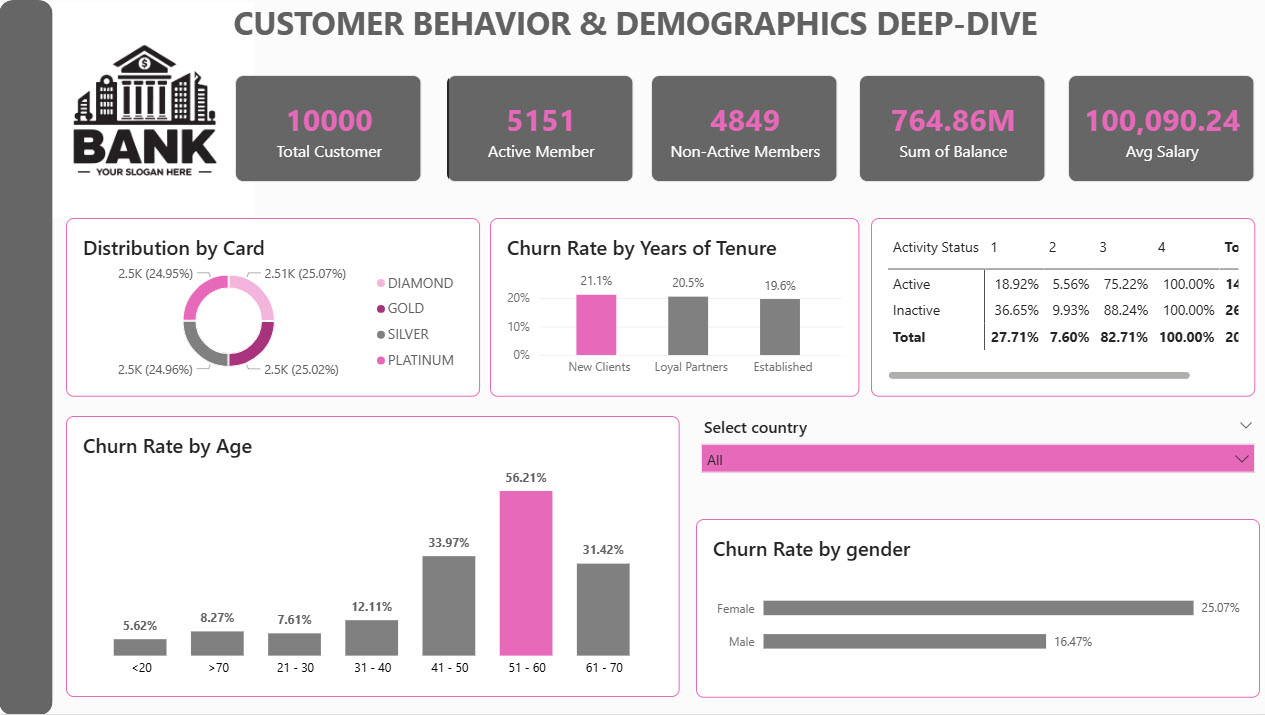

The page's visual inventory and layout, read from the dashboard file:
{"tool":"powerbi","page":{"name":" Page 2","canvas":[1280,720],"ordinal":1},"visuals":[{"type":"image","box":[23.3,2.2,247.8,217.8],"z":0},{"type":"shape","box":[0,0,54.1,720.5],"z":1000},{"type":"cardVisual","fields":{"Data":["Customer.Records.Non-Active Members"]},"box":[656.8,75.6,188,108.9],"z":2000},{"type":"cardVisual","fields":{"Data":["Sum(Customer.Records.IsActiveMember)"]},"box":[451.1,75.6,188.9,108.9],"z":3000},{"type":"cardVisual","fields":{"Data":["CountNonNull(Customer.Records.CustomerId)"]},"box":[237.3,75.6,188,108.9],"z":4000},{"type":"cardVisual","fields":{"Data":["Sum(Customer.Records.Balance)"]},"box":[866.5,75.6,188,108.9],"z":5000},{"type":"cardVisual","fields":{"Data":["Avg(Customer.Records.EstimatedSalary)"]},"box":[1076.2,75.6,188,108.9],"z":6000},{"type":"textbox","box":[206,0,869,52],"z":7000},{"type":"clusteredColumnChart","title":"Churn Rate by Age","fields":{"Category":["Customer.Records.Age (groups)"],"Y":["Customer.Records.Churn Rate"]},"box":[67.8,418.9,617.8,283.3],"z":8000},{"type":"donutChart","title":"Distribution by Card ","fields":{"Category":["Customer.Records.Card Type"],"Y":["CountNonNull(Customer.Records.CustomerId)"]},"box":[67.8,220,416.7,180],"z":9000},{"type":"clusteredBarChart","title":"Churn Rate by gender","fields":{"Category":["Customer.Records.Gender"],"Y":["Customer.Records.Churn Rate"]},"box":[702.2,522.2,567.8,180],"z":10000},{"type":"slicer","fields":{"Values":["Customer.Records.Geography"]},"box":[702.2,418.9,567.8,90],"z":11000},{"type":"clusteredColumnChart","title":"Churn Rate by Years of Tenure","fields":{"Category":["Customer.Records.Tenure (groups)"],"Y":["Customer.Records.Churn Rate"]},"box":[494.4,220,372.2,180],"z":12000},{"type":"pivotTable","fields":{"Columns":["Customer.Records.NumOfProducts"],"Rows":["Customer.Records.Activity Status"],"Values":["Customer.Records.Churn Rate"]},"box":[877.8,220,386.7,180],"z":12001}]}

Visuals, with their boxes in screenshot pixels (x1, y1, x2, y2), scaled from the page's 1280x720 canvas onto the 1265x715 screenshot:
image: [x1=23, y1=2, x2=268, y2=218]
shape: [x1=0, y1=0, x2=53, y2=714]
cardVisual - Customer.Records.Non-Active Members: [x1=649, y1=75, x2=835, y2=183]
cardVisual - Sum(Customer.Records.IsActiveMember): [x1=446, y1=75, x2=632, y2=183]
cardVisual - CountNonNull(Customer.Records.CustomerId): [x1=235, y1=75, x2=420, y2=183]
cardVisual - Sum(Customer.Records.Balance): [x1=856, y1=75, x2=1042, y2=183]
cardVisual - Avg(Customer.Records.EstimatedSalary): [x1=1064, y1=75, x2=1249, y2=183]
textbox: [x1=204, y1=0, x2=1062, y2=52]
"Churn Rate by Age" clusteredColumnChart: [x1=67, y1=416, x2=678, y2=697]
"Distribution by Card " donutChart: [x1=67, y1=218, x2=479, y2=397]
"Churn Rate by gender" clusteredBarChart: [x1=694, y1=519, x2=1255, y2=697]
slicer - Customer.Records.Geography: [x1=694, y1=416, x2=1255, y2=505]
"Churn Rate by Years of Tenure" clusteredColumnChart: [x1=489, y1=218, x2=856, y2=397]
pivotTable - Customer.Records.NumOfProducts x Customer.Records.Activity Status: [x1=868, y1=218, x2=1250, y2=397]
